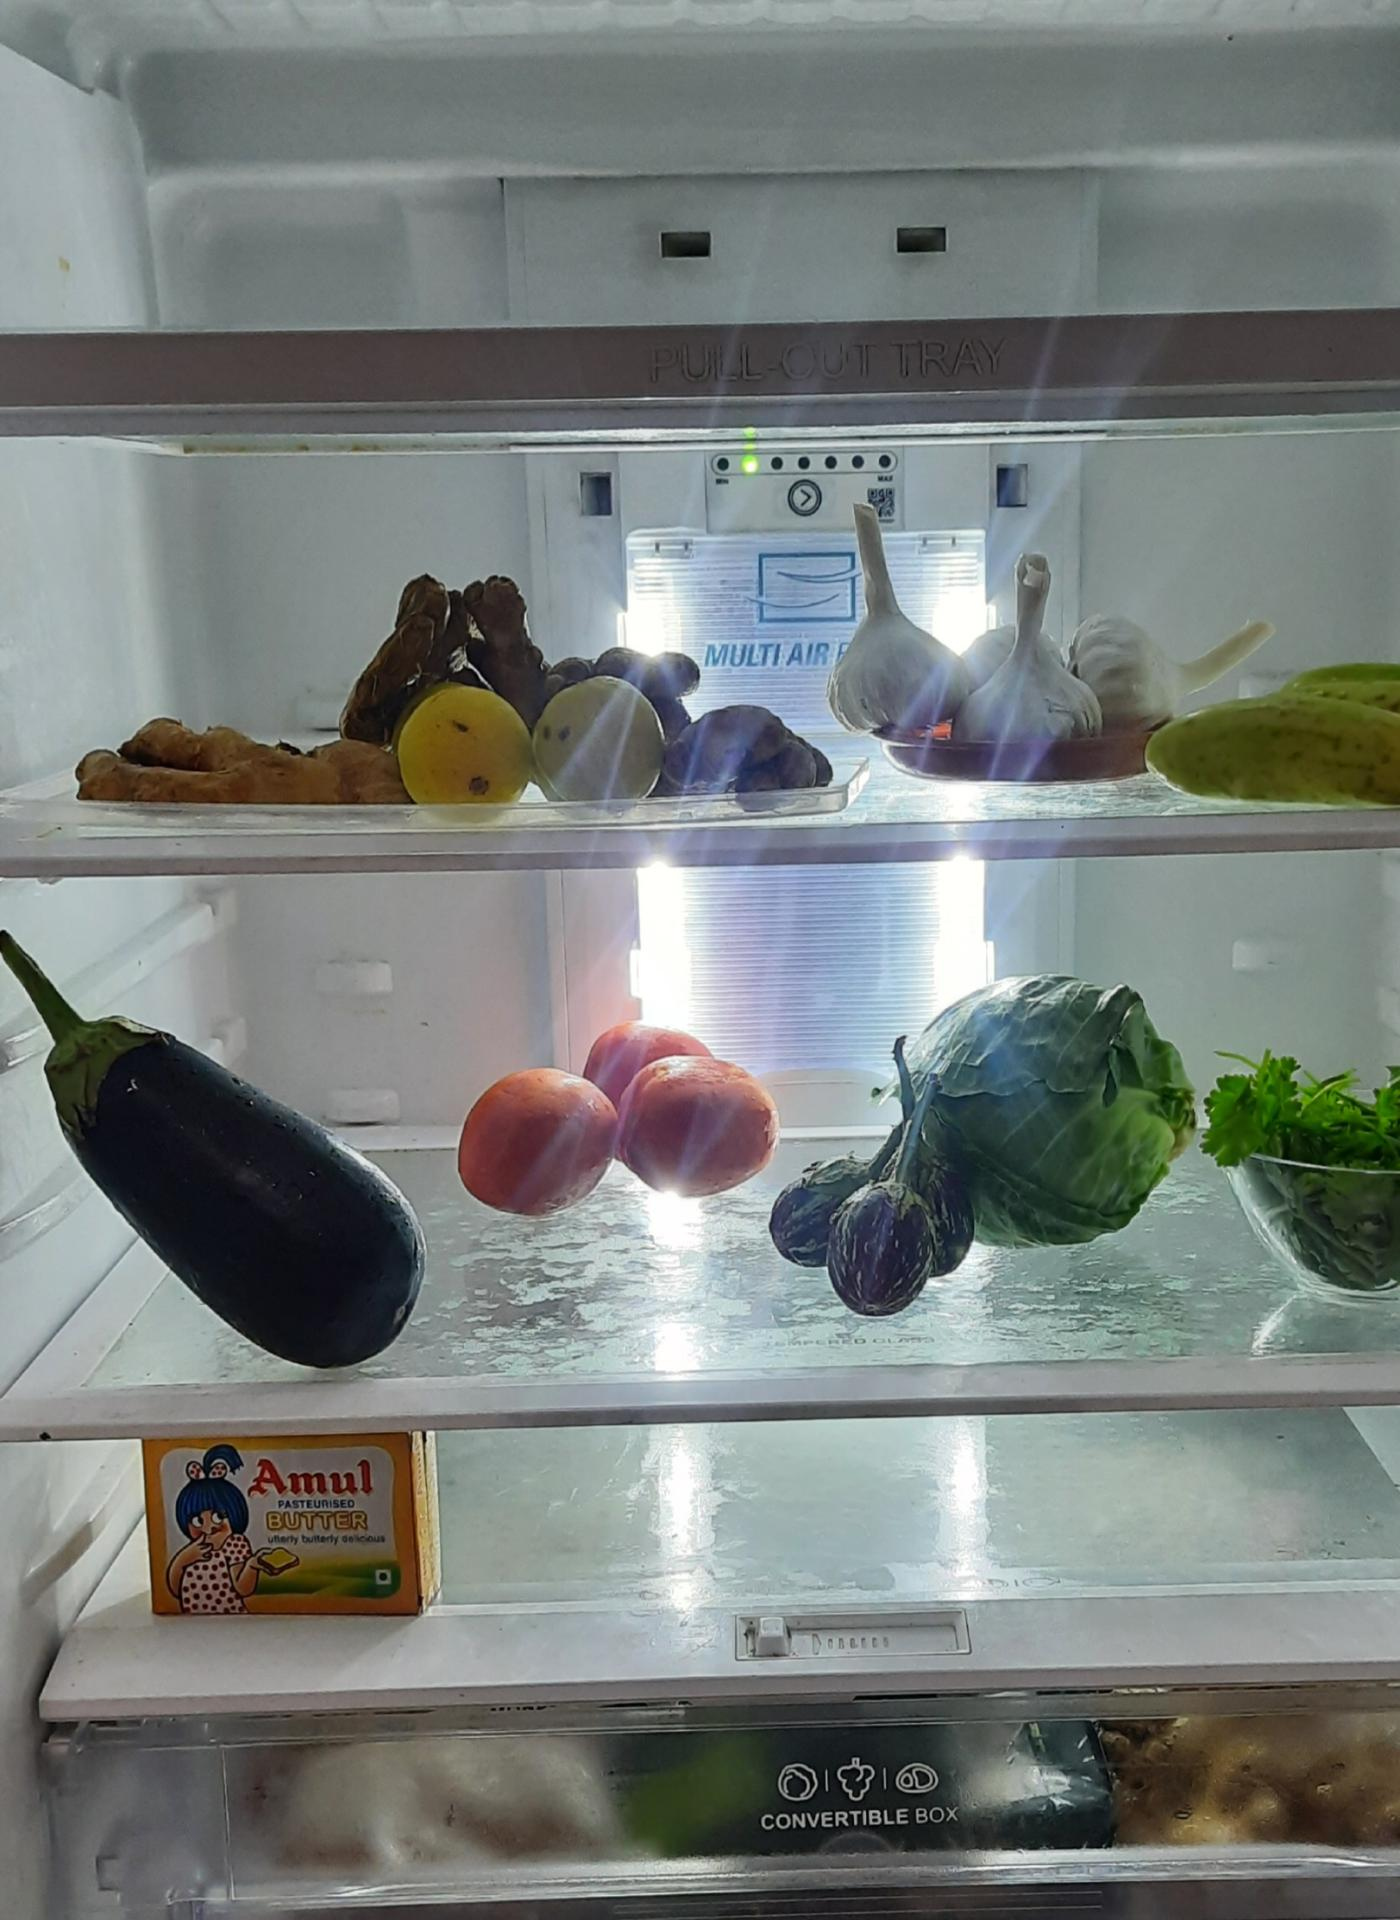brinjal: (10, 924, 413, 1379), (762, 1088, 984, 1312)
butter: (148, 1436, 449, 1614)
cabbage: (890, 978, 1181, 1254)
coriander: (1226, 1043, 1400, 1292)
cucumber: (1136, 656, 1399, 802)
garlic: (841, 534, 1212, 756)
ginger: (358, 568, 842, 795), (75, 711, 373, 805)
lemon: (395, 672, 660, 811)
tomato: (459, 1023, 768, 1209)
